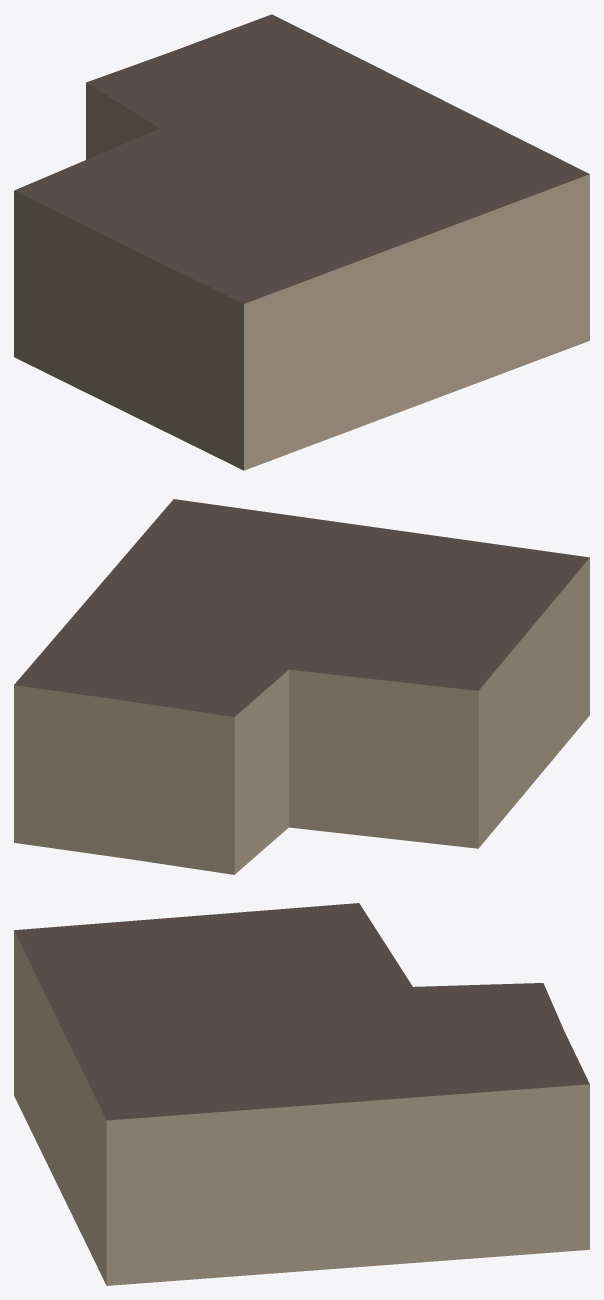
3 renders of one model, top to bottom at view 1: azimuth 30°, elevation 25°; view 2: azimuth 150°, elevation 25°; view 3: azimuth 270°, elevation 25°, orthographic. The views are drawn at different scales.
Visible parts, largest first — view 1: HP-w1512911279; view 2: HP-w1512911279; view 3: HP-w1512911279.
Boxes of the visible parts, left/top/right/bottom form: HP-w1512911279: left=14, top=14, right=589, bottom=470; HP-w1512911279: left=14, top=499, right=589, bottom=874; HP-w1512911279: left=14, top=903, right=589, bottom=1285.
Size of the model in its own units: 25.37 by 9 by 28.39.
